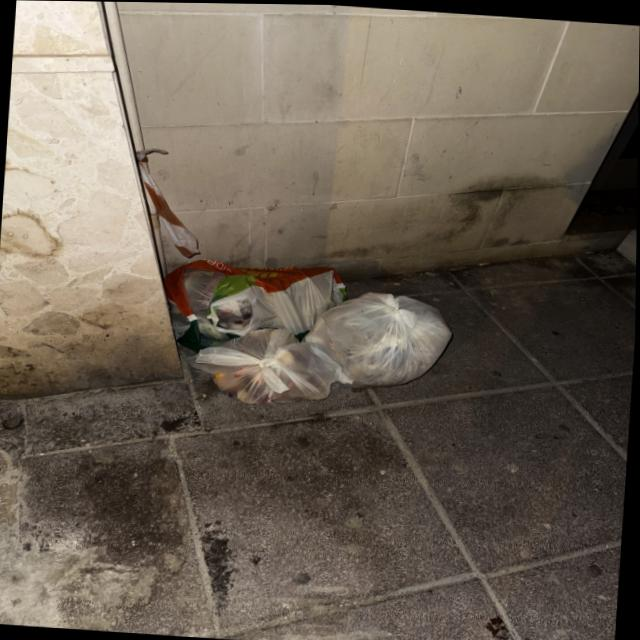Organic Waste -White Bags-: (164, 259, 456, 403)
